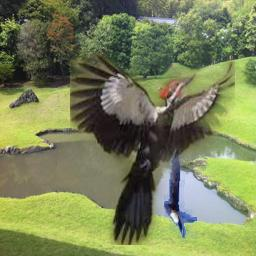Swallow: (164, 150, 197, 239)
Woodpecker: (70, 52, 235, 245)
